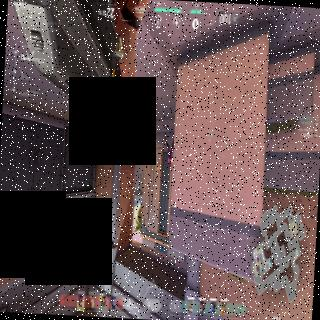ENEMY-BODY: (164, 136, 174, 168)
ENEMY-HEAD: (169, 161, 172, 167)
